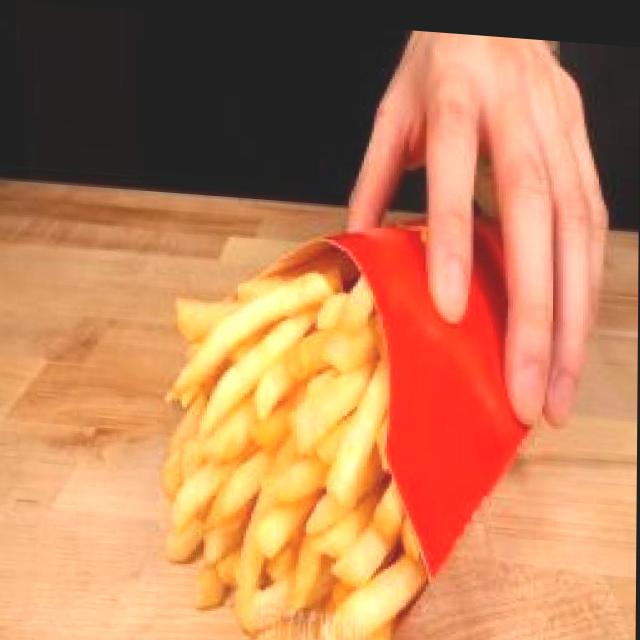french fries: (149, 201, 452, 640)
